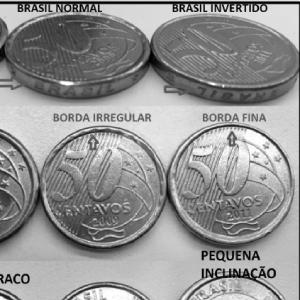50 cent: (39, 125, 166, 249), (167, 122, 294, 245), (6, 15, 150, 98), (155, 17, 299, 99)
